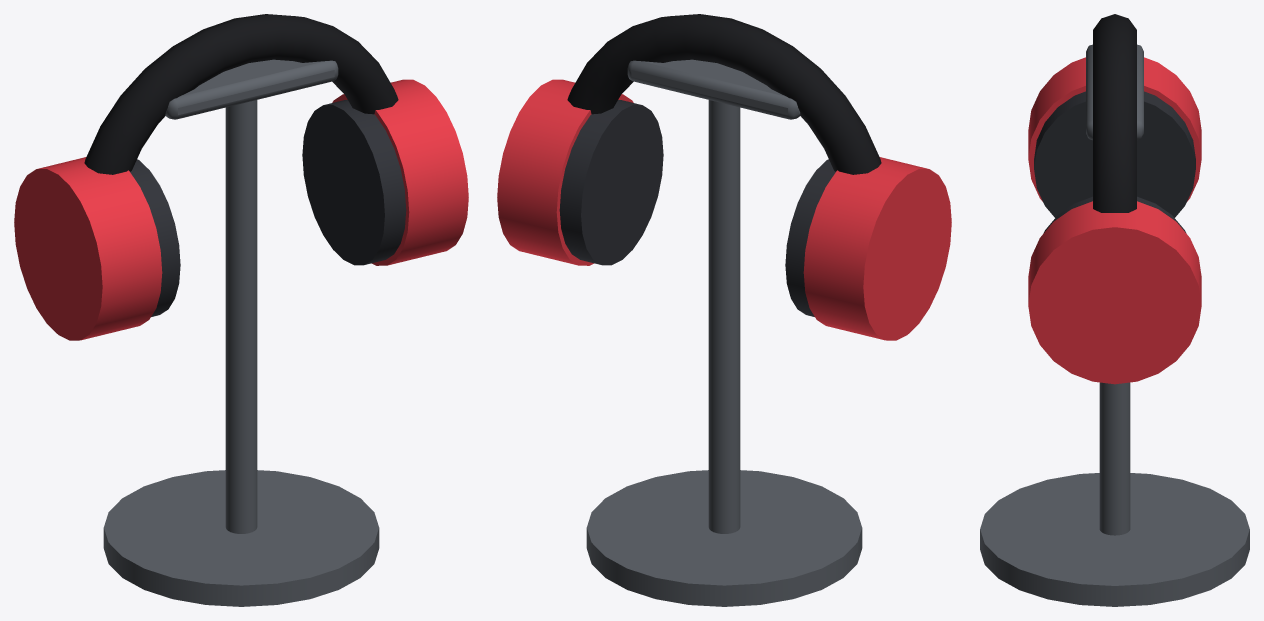
Rendered from headphones.fbx.
The picture shows the model from 3 angles, left to right: view 1: azimuth 30°, elevation 25°; view 2: azimuth 150°, elevation 25°; view 3: azimuth 270°, elevation 25°; orthographic projection. The views are drawn at different scales.
Visible parts, largest first — view 1: Headphones; view 2: Headphones; view 3: Headphones.
Boxes of the visible parts, box(x1,y1,x2,y2) form: Headphones: box(14, 14, 468, 606); Headphones: box(497, 14, 951, 606); Headphones: box(980, 14, 1249, 606).
Bounding box in the file's own units: 0.215 × 0.297 × 0.14.
